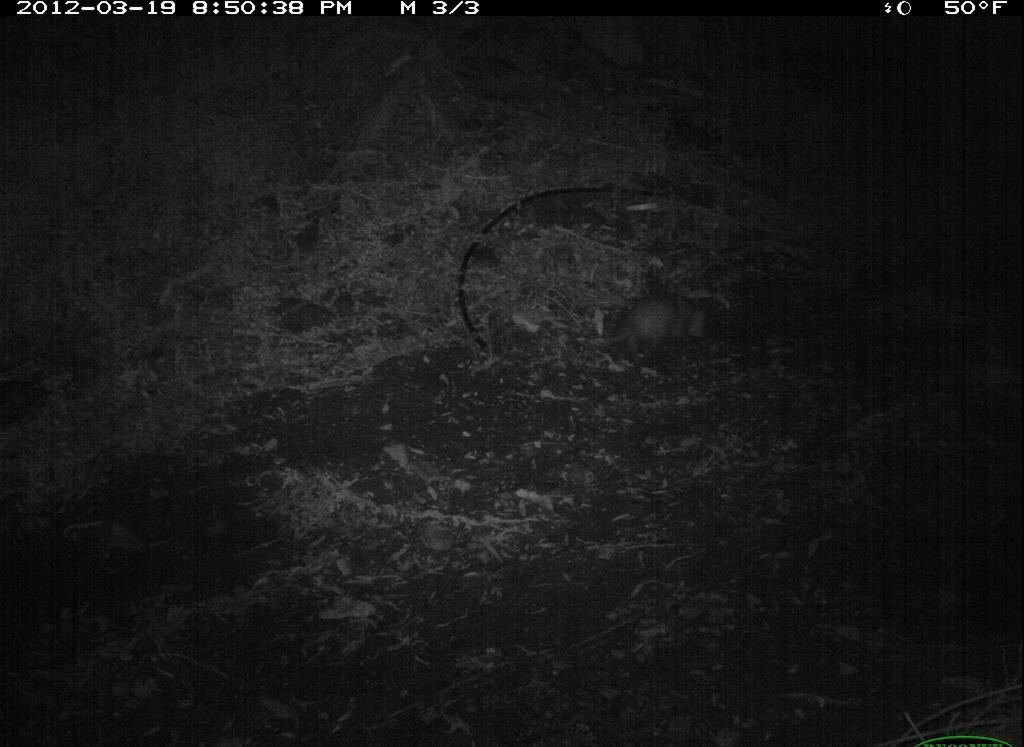opossum: (587, 278, 728, 381)
